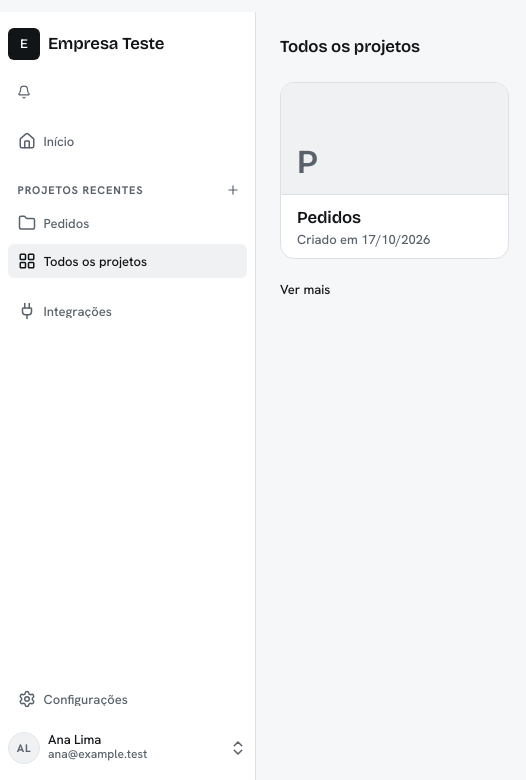
Test: a página fica no endereço: "Ver mais" pede a que segue
What coordinates should you click on to do the following:
click the link with aria-label "Ver mais: Projetos"
I would click on:
 (305, 289)
Its box is [280,283,330,296].
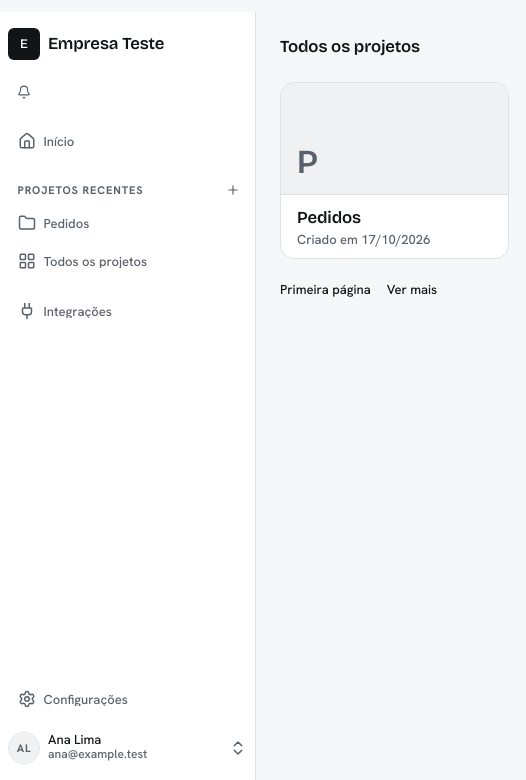
Result: the link with aria-label "Primeira página: Projetos" is shown at [280,283,371,296]
